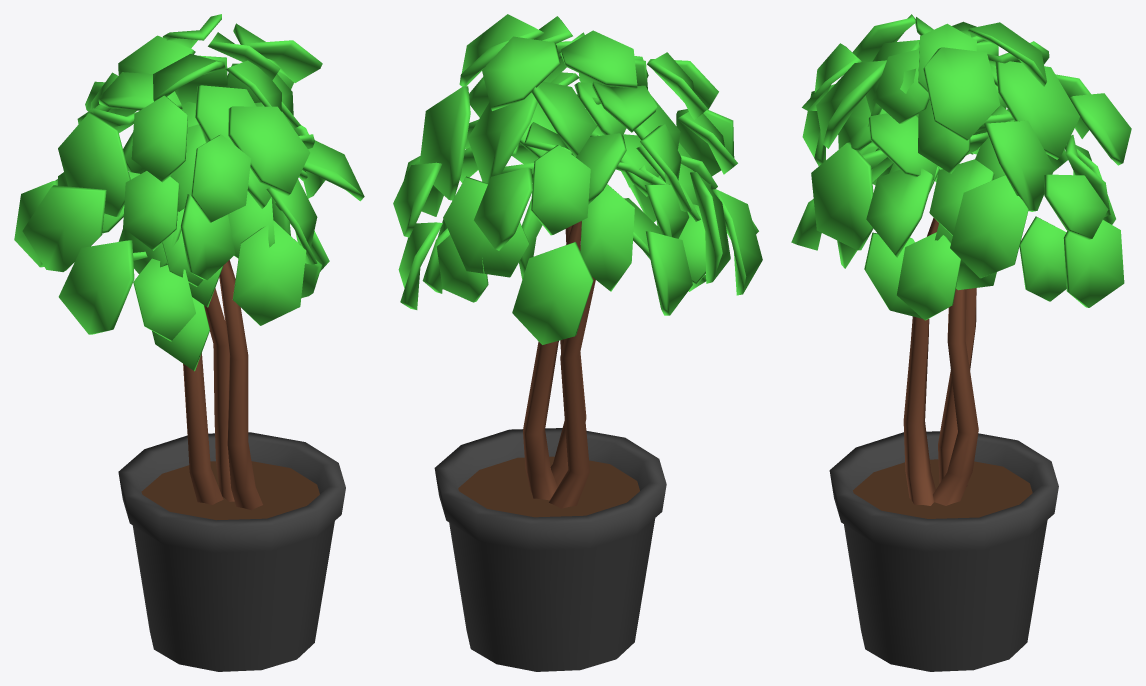
The model's file is plant2.fbx.
3 views of the same model, side by side, from view 1: azimuth 30°, elevation 25°; view 2: azimuth 150°, elevation 25°; view 3: azimuth 270°, elevation 25° (orthographic).
Visible parts, largest first — view 1: low_poly_interior_325; view 2: low_poly_interior_325; view 3: low_poly_interior_325.
Part boxes in pixels (<box>): low_poly_interior_325: <box>14,14,364,671</box>; low_poly_interior_325: <box>393,14,762,671</box>; low_poly_interior_325: <box>791,14,1131,671</box>.
Size of the model in its own units: 1.71 by 3.24 by 1.65.
